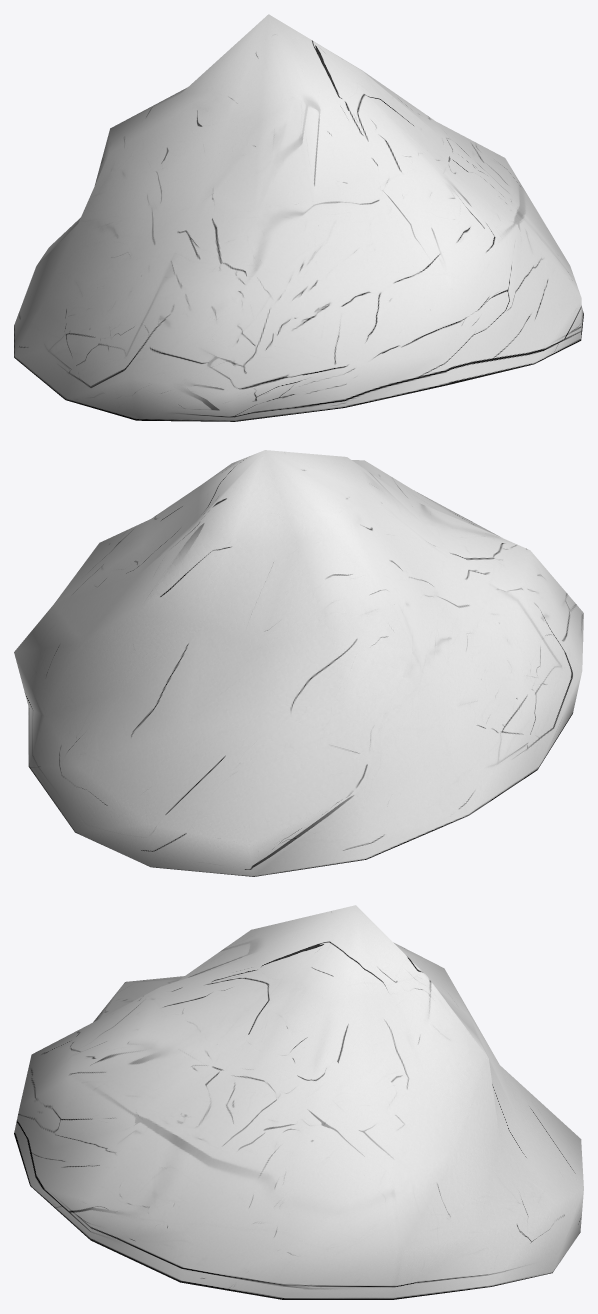
The model's file is psychicFoilHelmet.glb.
The picture shows the model from 3 angles, top to bottom: view 1: azimuth 30°, elevation 25°; view 2: azimuth 150°, elevation 25°; view 3: azimuth 270°, elevation 25°; orthographic projection. The views are drawn at different scales.
Parts seen in each view (by area): view 1: PsychicFoilHelmet; view 2: PsychicFoilHelmet; view 3: PsychicFoilHelmet.
Part boxes in pixels (left/top/right/bottom): PsychicFoilHelmet: left=14, top=14, right=583, bottom=421; PsychicFoilHelmet: left=14, top=450, right=583, bottom=876; PsychicFoilHelmet: left=14, top=905, right=583, bottom=1299.
Bounding box in the file's own units: 10.05 × 6.82 × 10.77.
Materials: 1 (1 with a texture image).
